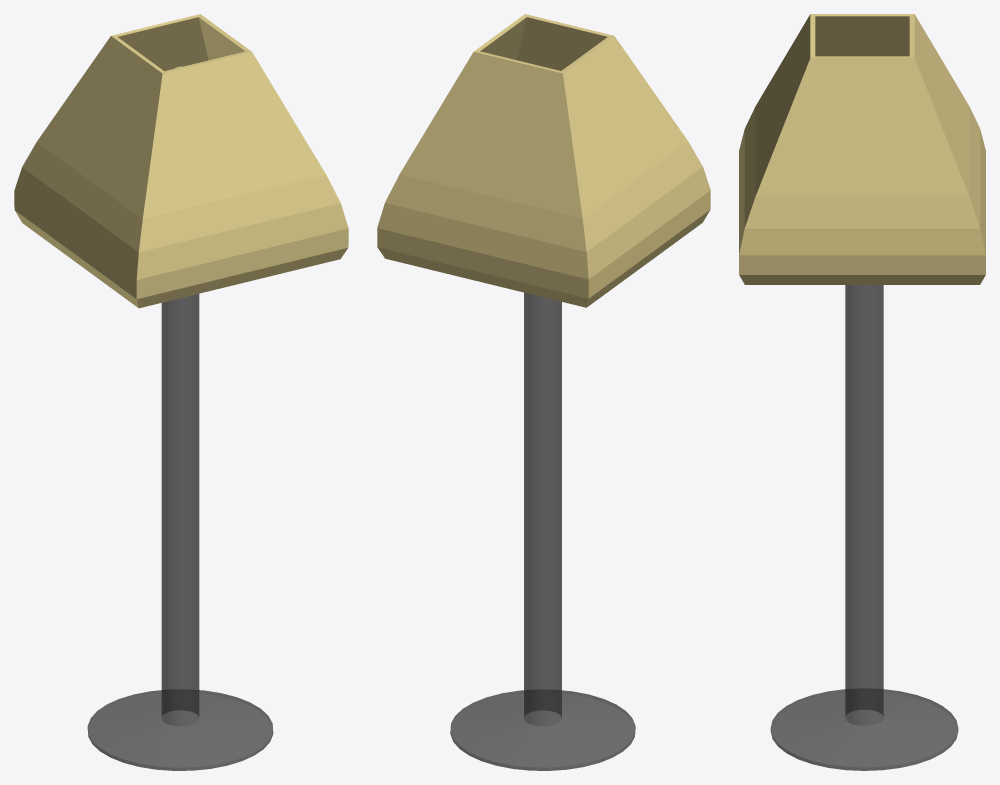
Rendered from abajur_pe.fbx.
The picture shows the model from 3 angles, left to right: view 1: azimuth 30°, elevation 25°; view 2: azimuth 150°, elevation 25°; view 3: azimuth 270°, elevation 25°; orthographic projection.
Visible parts, largest first — view 1: candieiro_pe; view 2: candieiro_pe; view 3: candieiro_pe.
Boxes of the visible parts, <box> form: candieiro_pe: <box>14,14,348,770</box>; candieiro_pe: <box>377,14,710,770</box>; candieiro_pe: <box>739,14,985,770</box>.
Bounding box in the file's own units: 0.4651 × 1.44 × 0.4651.
